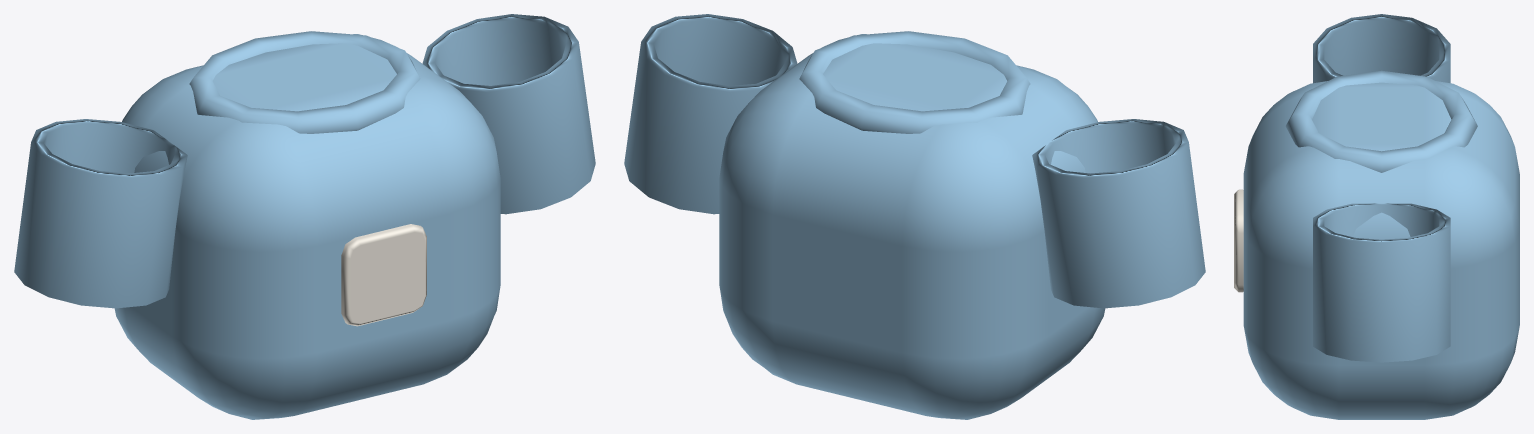
File: annyeong_tee.glb
3 renders of one model, left to right at view 1: azimuth 30°, elevation 25°; view 2: azimuth 150°, elevation 25°; view 3: azimuth 270°, elevation 25°, orthographic. The views are drawn at different scales.
Visible parts, largest first — view 1: annyeong_tee_Body, annyeong_tee_ArmL, annyeong_tee_ArmR; view 2: annyeong_tee_Body, annyeong_tee_ArmL, annyeong_tee_ArmR; view 3: annyeong_tee_Body, annyeong_tee_ArmR, annyeong_tee_ArmL.
Part boxes in pixels (bbox=[...]): annyeong_tee_Body: bbox=[114, 31, 500, 419]; annyeong_tee_ArmL: bbox=[14, 119, 187, 308]; annyeong_tee_ArmR: bbox=[422, 14, 595, 214]; annyeong_tee_Body: bbox=[719, 31, 1105, 419]; annyeong_tee_ArmL: bbox=[1032, 119, 1205, 308]; annyeong_tee_ArmR: bbox=[624, 14, 797, 214]; annyeong_tee_Body: bbox=[1234, 70, 1519, 419]; annyeong_tee_ArmR: bbox=[1313, 203, 1450, 362]; annyeong_tee_ArmL: bbox=[1313, 14, 1450, 83].
Bounding box in the file's own units: 0.6053 × 0.3119 × 0.3.
